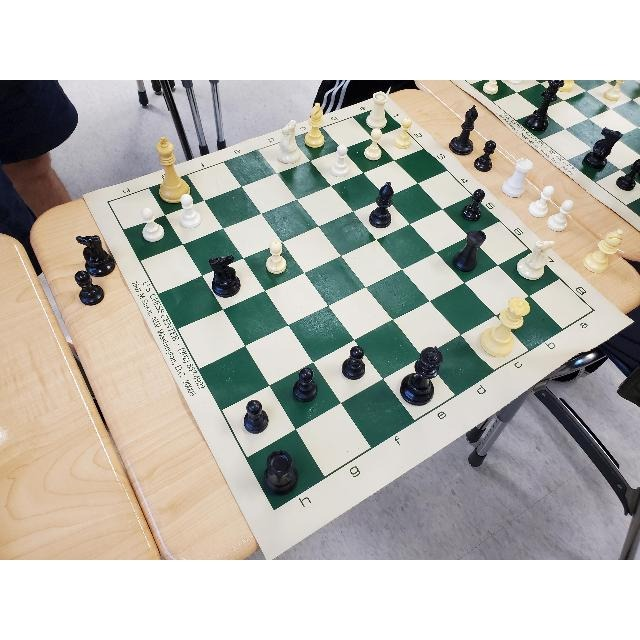black-bishop: (367, 180, 394, 230)
black-king: (400, 343, 444, 406)
black-knight: (207, 253, 243, 298)
black-pawn: (241, 398, 270, 435), (291, 367, 319, 403), (340, 345, 368, 381), (461, 189, 485, 223)
black-rook: (449, 228, 487, 274)
white-bishop: (304, 100, 326, 150)
white-king: (154, 135, 192, 202)
white-knight: (275, 118, 303, 166)
white-pawn: (139, 206, 165, 243), (263, 238, 288, 276), (327, 143, 351, 180), (392, 114, 413, 152), (179, 196, 202, 230), (362, 127, 383, 163)
white-queen: (477, 295, 533, 359)
white-rook: (516, 238, 557, 283), (365, 90, 389, 129)
